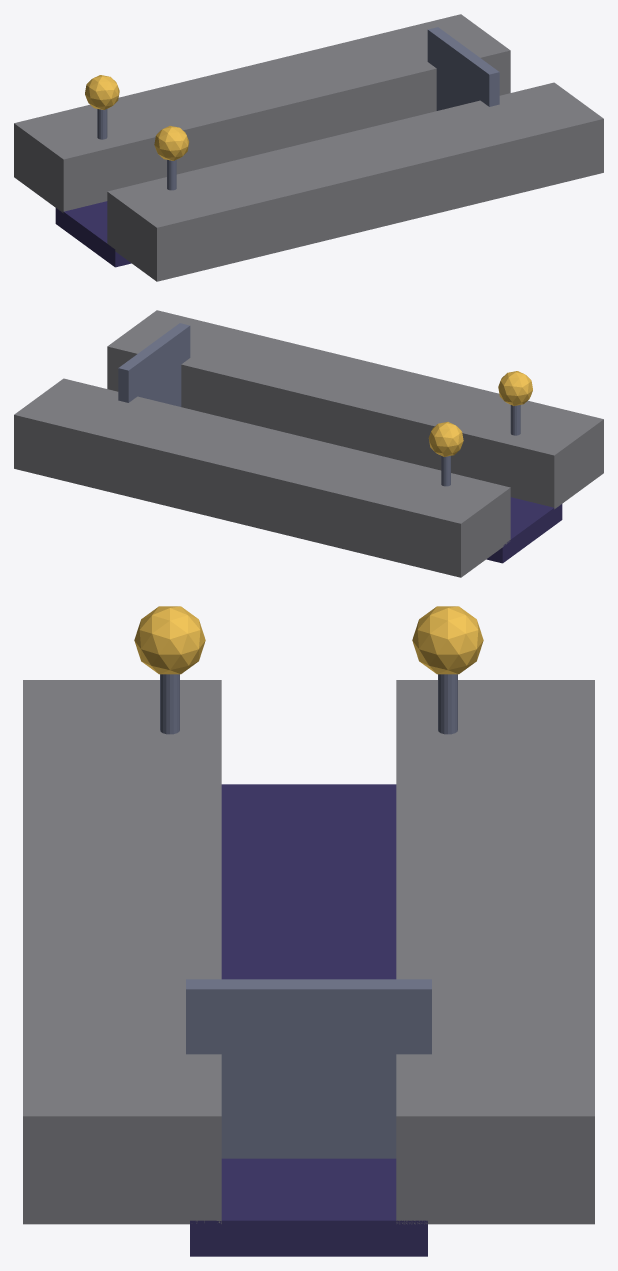
File: starless-canal.glb
3 views of the same model, one above another, from view 1: azimuth 30°, elevation 25°; view 2: azimuth 150°, elevation 25°; view 3: azimuth 270°, elevation 25° (orthographic). The views are drawn at different scales.
Visible parts, largest first — view 1: canal-right-bank, canal-left-bank, canal-floodgate, canal-channel-floor, canal-lantern-0, canal-lantern-1; view 2: canal-left-bank, canal-right-bank, canal-floodgate, canal-channel-floor, canal-lantern-0, canal-lantern-1; view 3: canal-left-bank, canal-right-bank, canal-channel-floor, canal-floodgate, canal-lantern-0, canal-lantern-1, canal-lantern-post-0, canal-lantern-post-1.
Boxes of the visible parts, x1,y1,x2,y2 form: canal-right-bank: [107, 82, 603, 281]; canal-left-bank: [14, 14, 510, 213]; canal-floodgate: [427, 27, 499, 110]; canal-channel-floor: [55, 201, 131, 267]; canal-lantern-0: [85, 75, 119, 109]; canal-lantern-1: [154, 126, 189, 160]; canal-left-bank: [14, 378, 510, 577]; canal-right-bank: [107, 310, 603, 509]; canal-floodgate: [118, 323, 190, 406]; canal-channel-floor: [486, 497, 562, 563]; canal-lantern-0: [428, 422, 463, 456]; canal-lantern-1: [498, 371, 532, 405]; canal-left-bank: [396, 680, 594, 1224]; canal-right-bank: [23, 680, 221, 1224]; canal-channel-floor: [190, 784, 427, 1256]; canal-floodgate: [186, 979, 431, 1158]; canal-lantern-0: [412, 606, 483, 674]; canal-lantern-1: [134, 606, 205, 674]; canal-lantern-post-0: [438, 674, 457, 734]; canal-lantern-post-1: [160, 674, 179, 734].
Bounding box in the file's own units: 2.6 × 0.73 × 1.44.
